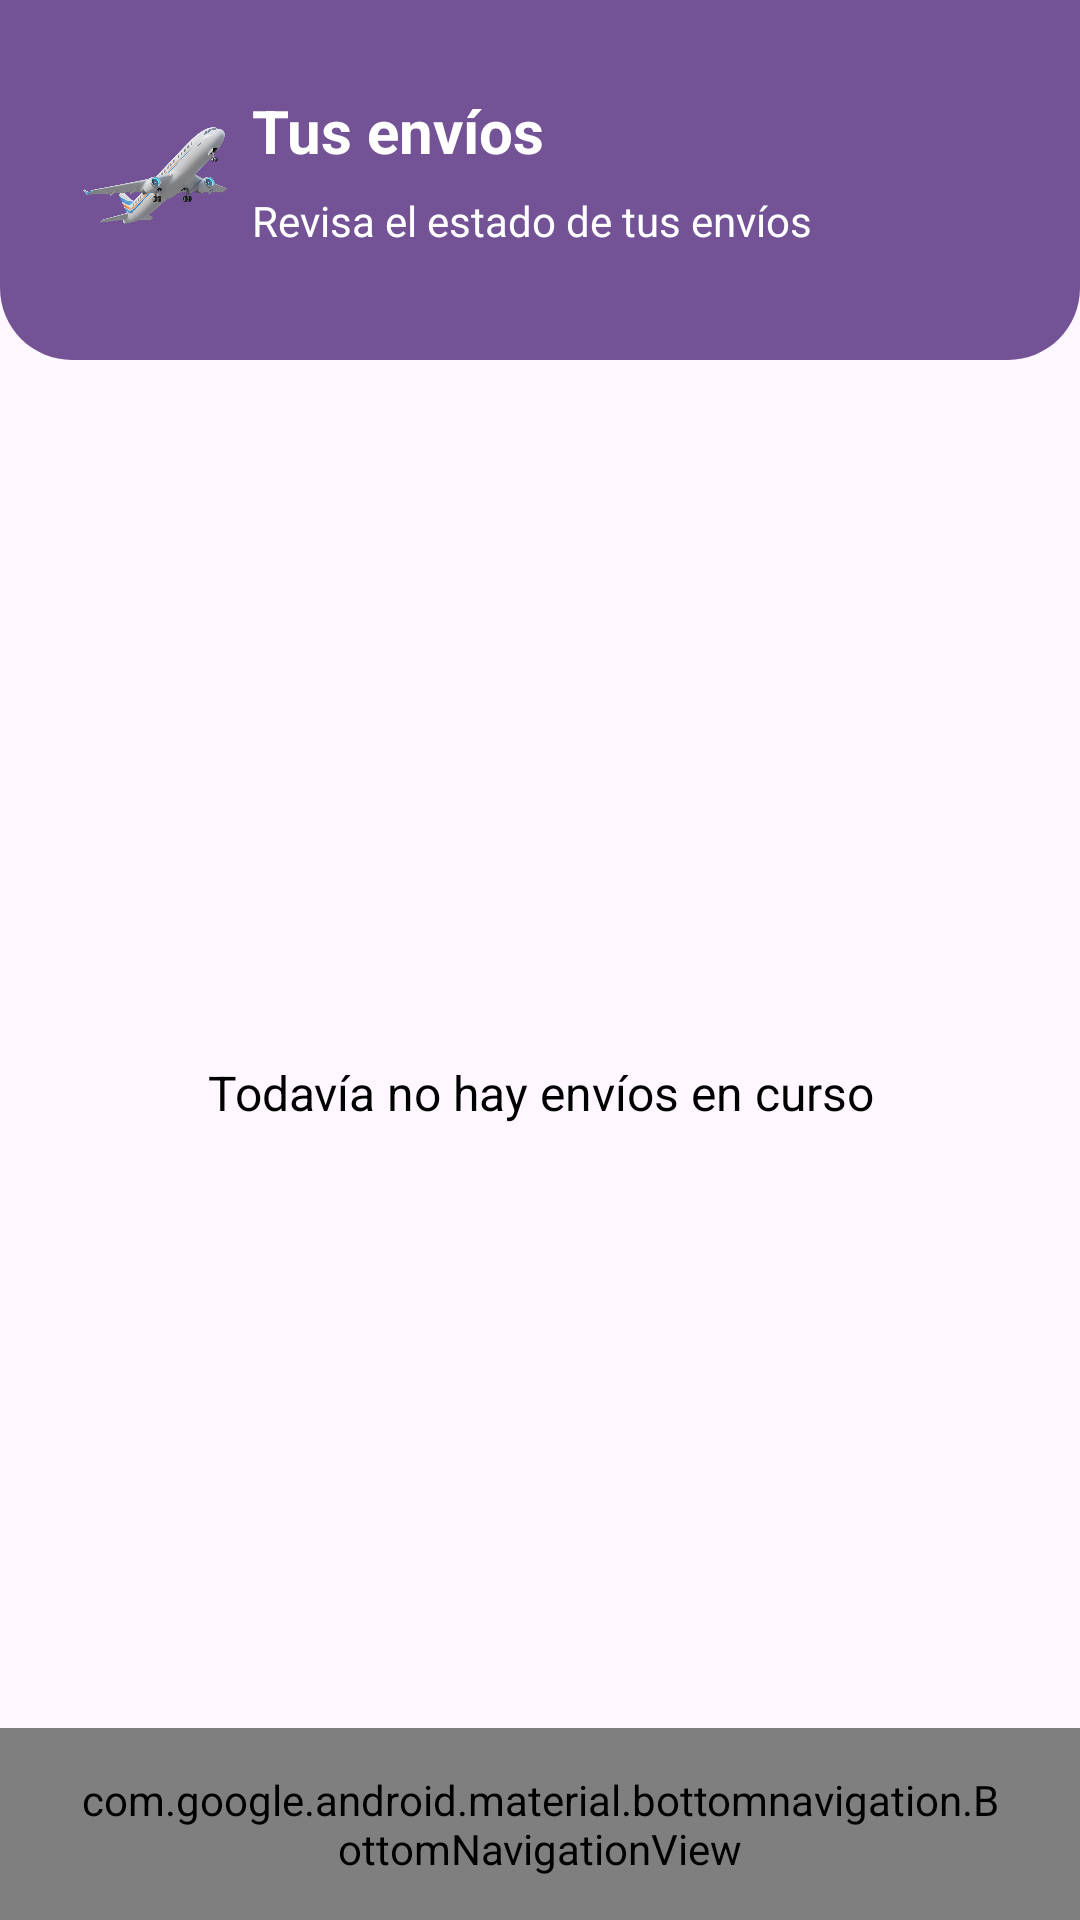

Screen size 1080x1920. Icon name, then its box in pixels as (x1, y1, x2, y2):
Icono envíos: (83, 127, 227, 224)
